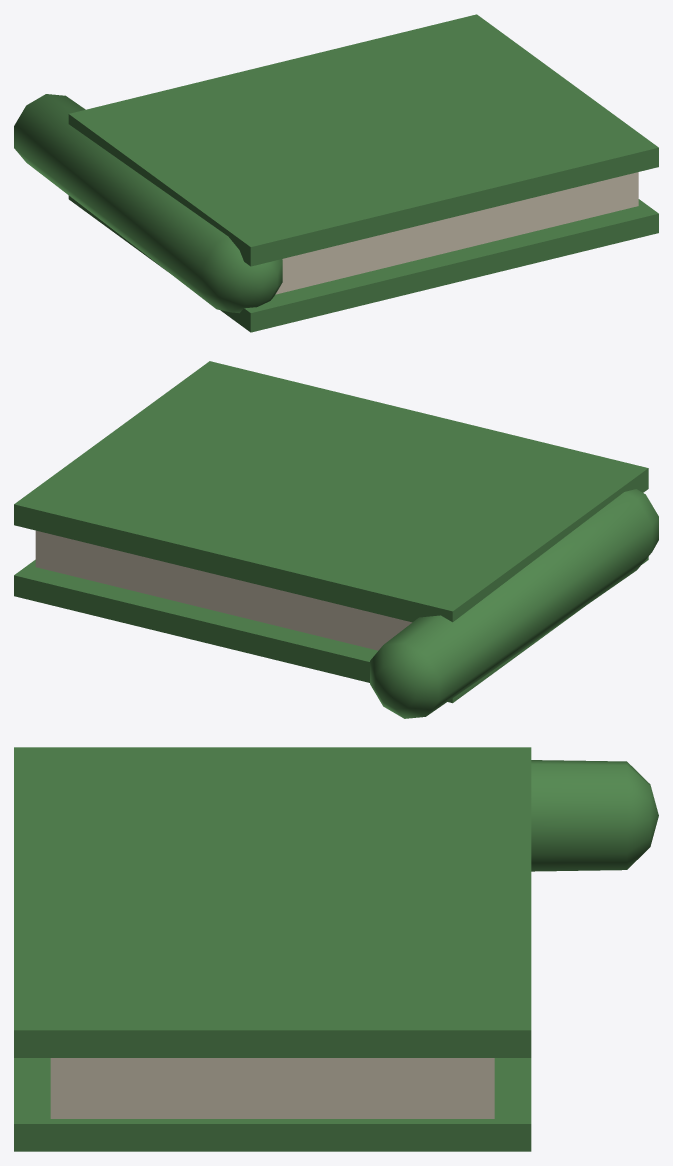
File: item_book_green.glb
The picture shows the model from 3 angles, top to bottom: view 1: azimuth 30°, elevation 25°; view 2: azimuth 150°, elevation 25°; view 3: azimuth 270°, elevation 25°; orthographic projection. The views are drawn at different scales.
Parts seen in each view (by area): view 1: item_book_green; view 2: item_book_green; view 3: item_book_green.
Boxes of the visible parts, x1,y1,x2,y2 form: item_book_green: (14,14,658,332); item_book_green: (14,361,658,718); item_book_green: (14,747,658,1151).
Size of the model in its own units: 0.117 by 0.022 by 0.106.
